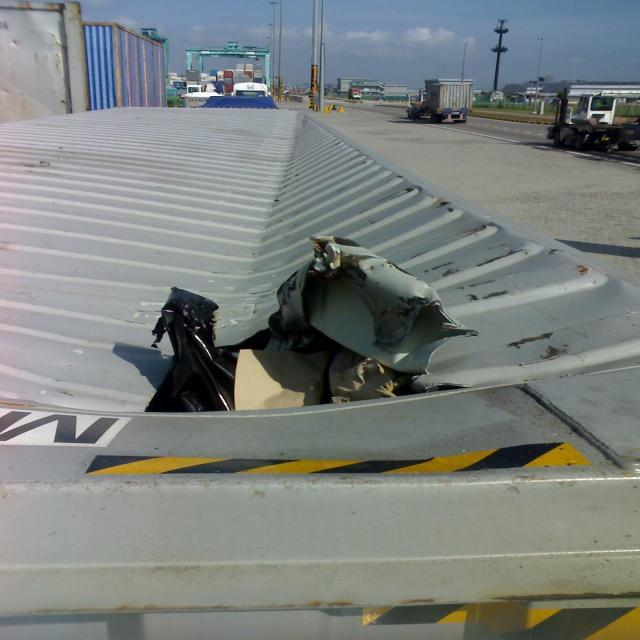hole: (140, 231, 467, 422)
